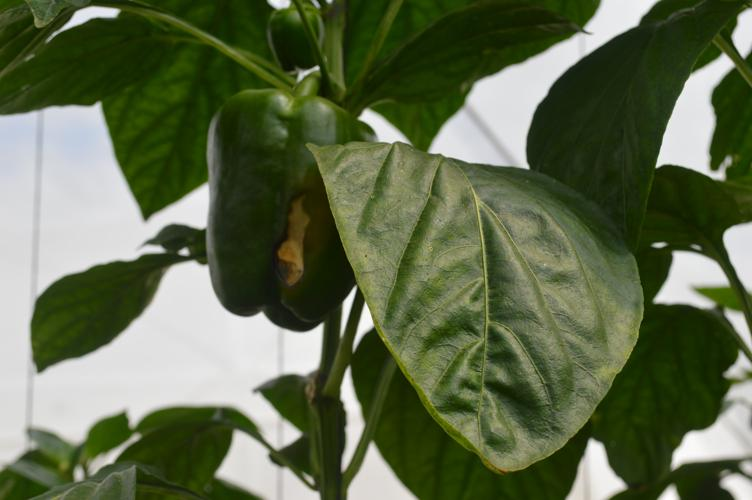BellPepper: (204, 88, 366, 329), (266, 5, 327, 74)
